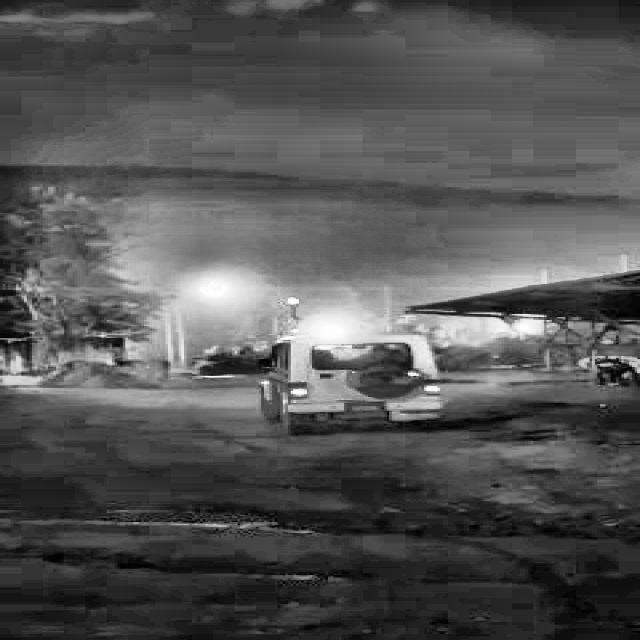light_vehicle: (268, 320, 455, 424)
